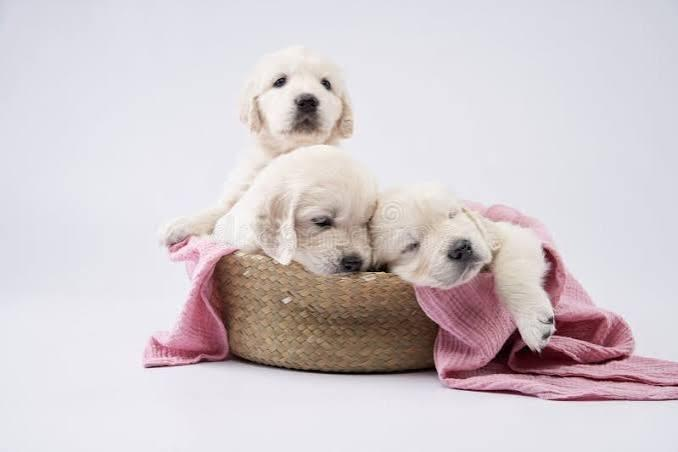puppy-dog: (161, 43, 355, 255), (370, 179, 555, 353), (212, 144, 383, 276)
